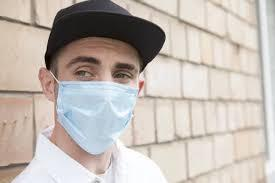cap: (44, 0, 168, 72)
mask: (54, 76, 147, 158)
